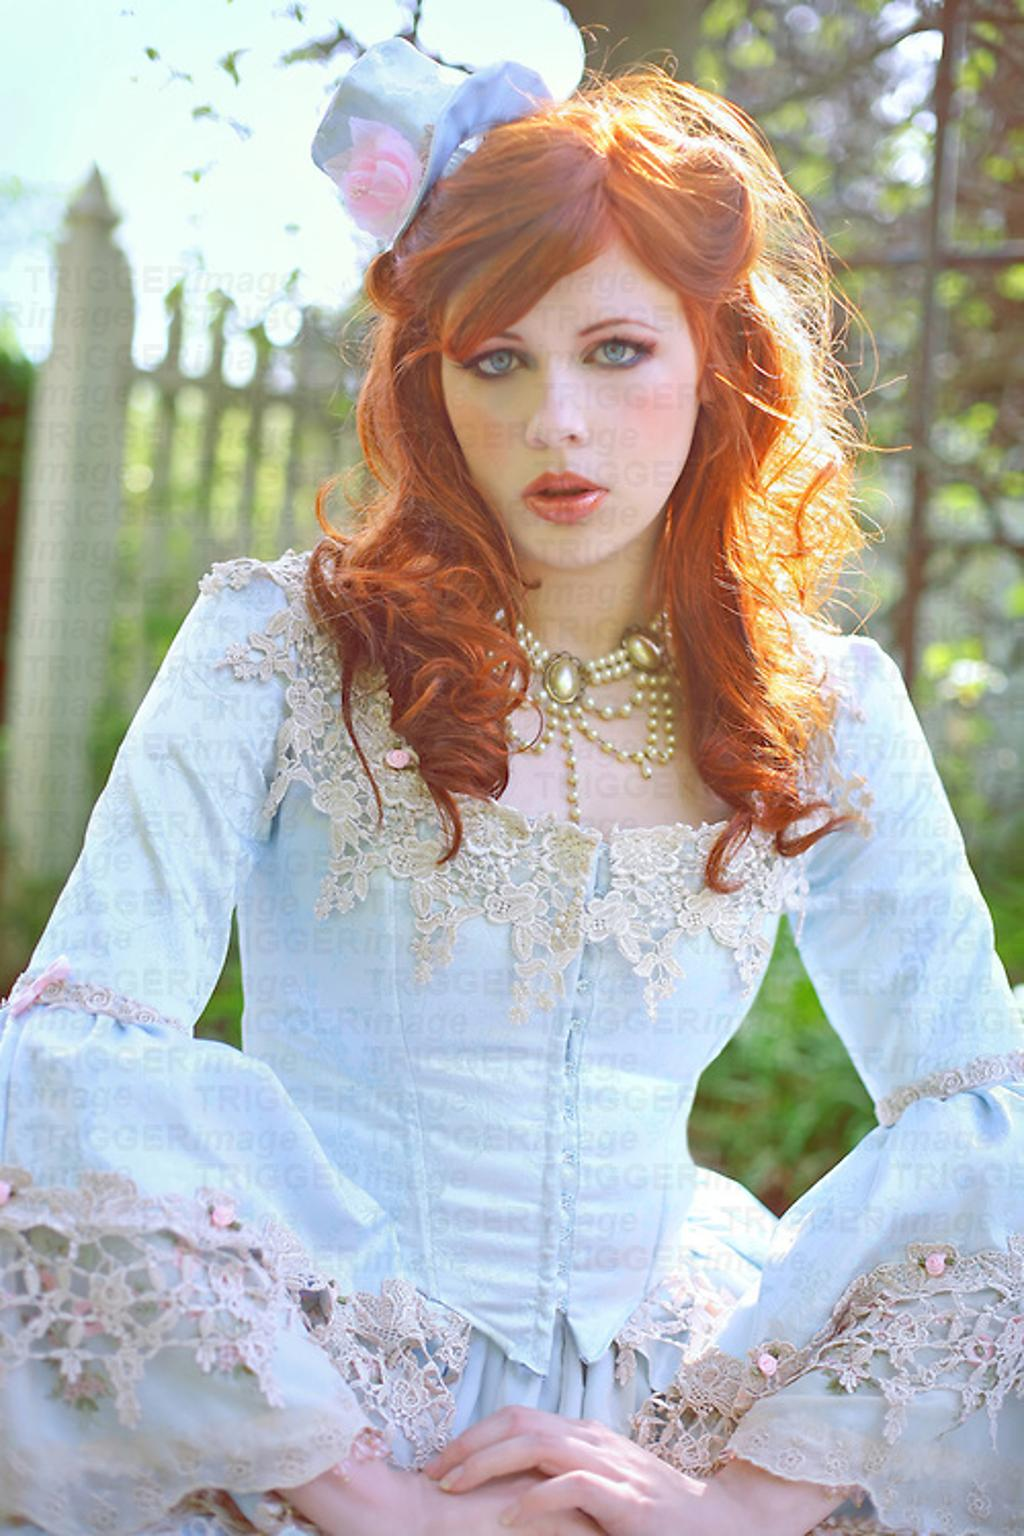face: (438, 219, 699, 567)
